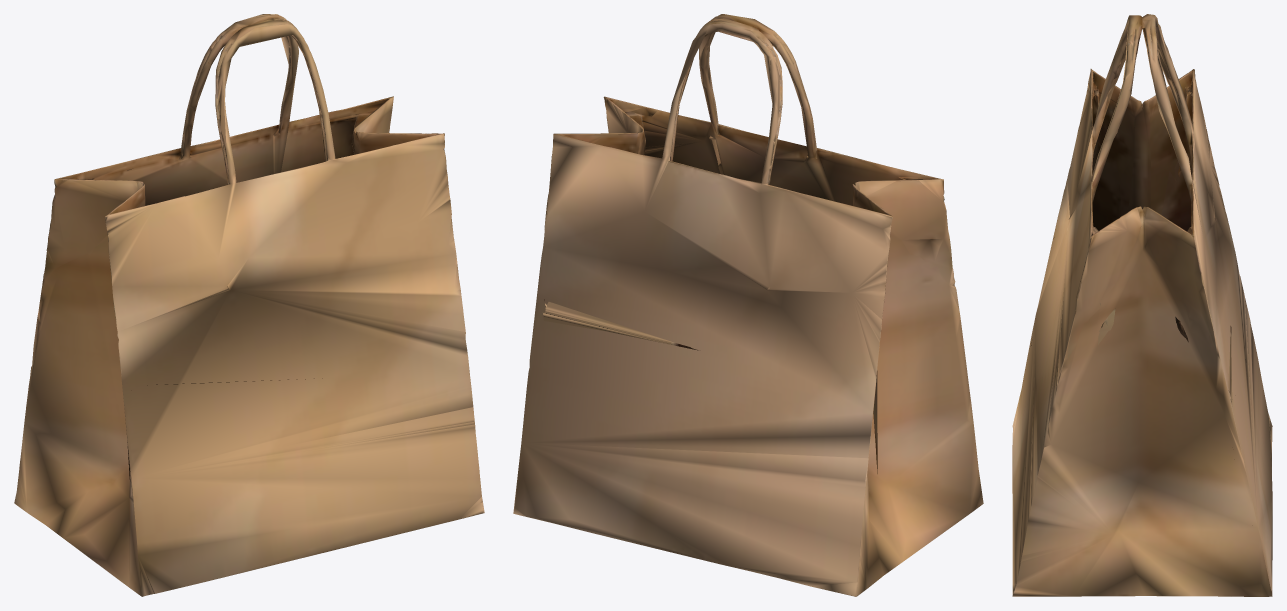
The model's file is sacola.glb.
3 views of the same model, side by side, from view 1: azimuth 30°, elevation 25°; view 2: azimuth 150°, elevation 25°; view 3: azimuth 270°, elevation 25° (orthographic).
Size of the model in its own units: 0.2503 by 0.34 by 0.1615.
Materials: 1 (1 with a texture image).
